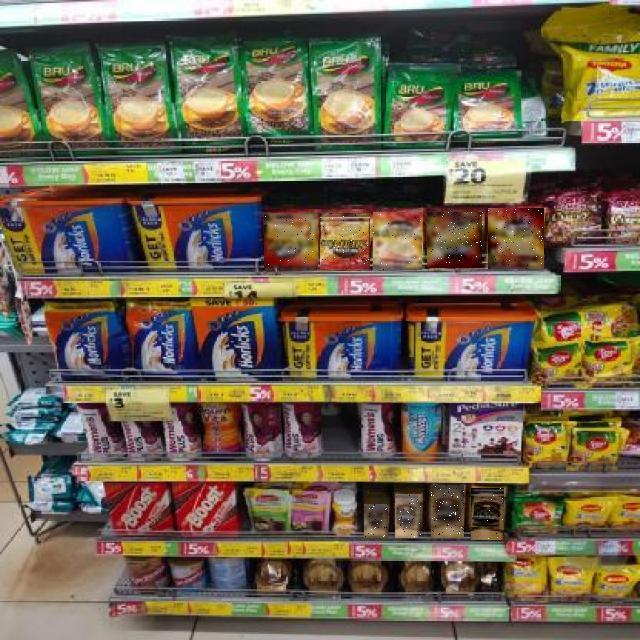Coffee: (488, 208, 544, 269), (428, 212, 484, 268), (264, 214, 318, 270), (321, 213, 371, 270), (373, 212, 422, 270), (431, 485, 464, 538), (471, 488, 504, 540), (396, 494, 422, 538), (364, 504, 388, 538)
